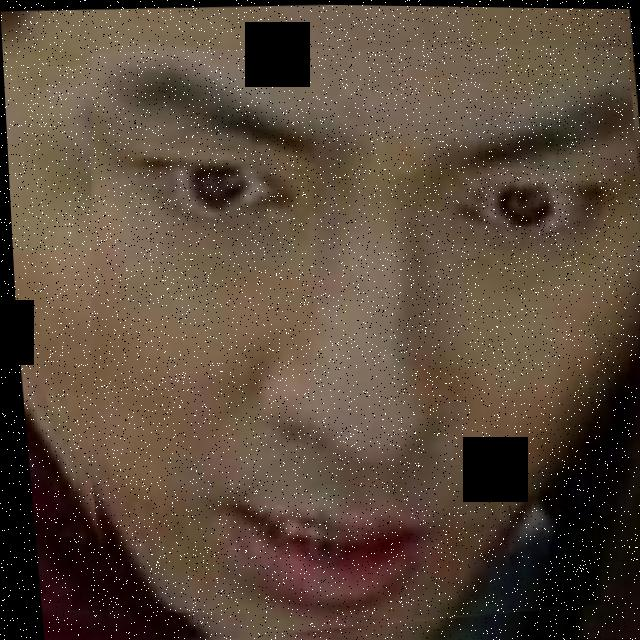fear: (36, 32, 640, 640)
